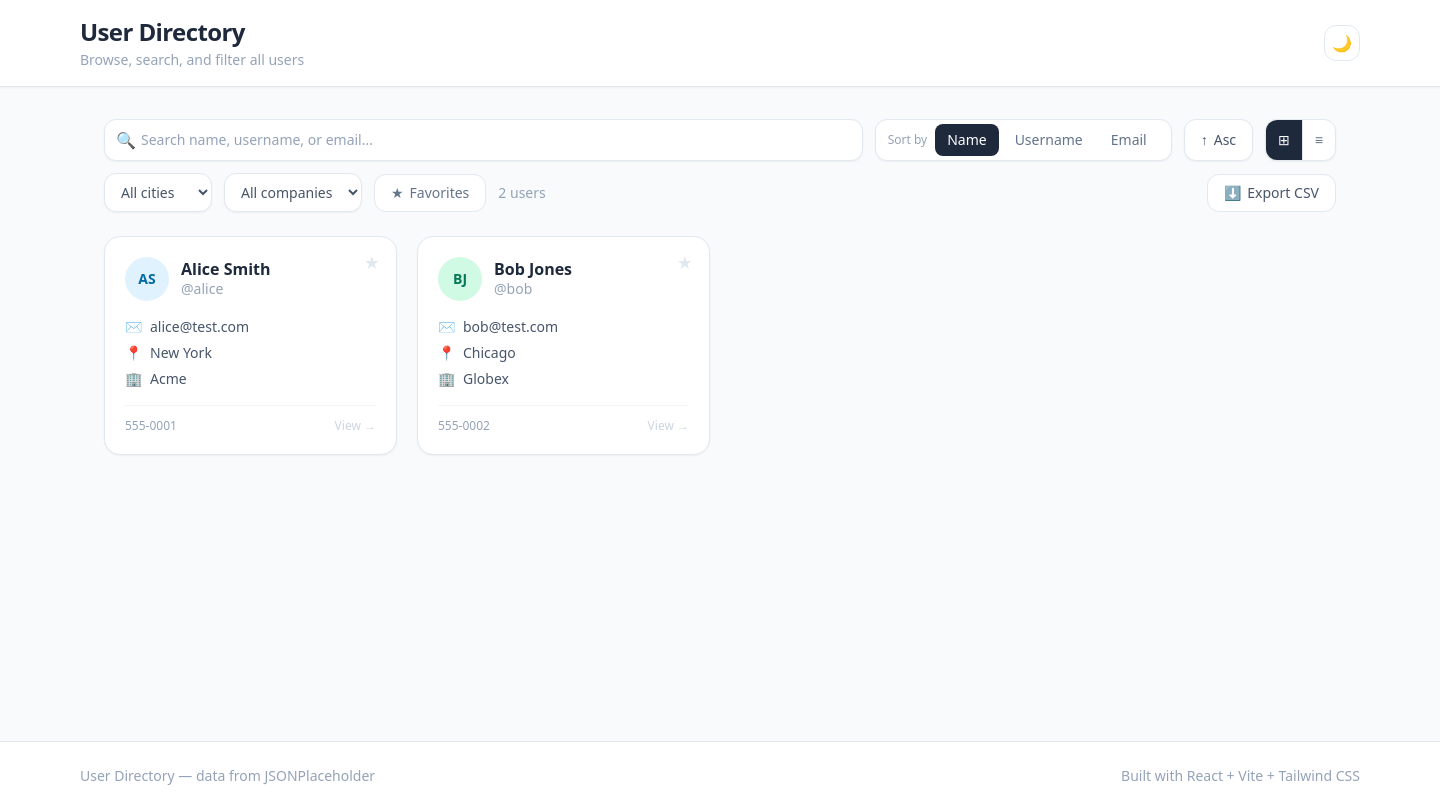
Home page › switches to table view when table button is clicked
Expected: the text "Alice Smith" is shown, [181,259,270,279]
Click the button named "Table view" at (1318, 140), box [1302,120,1335,160]
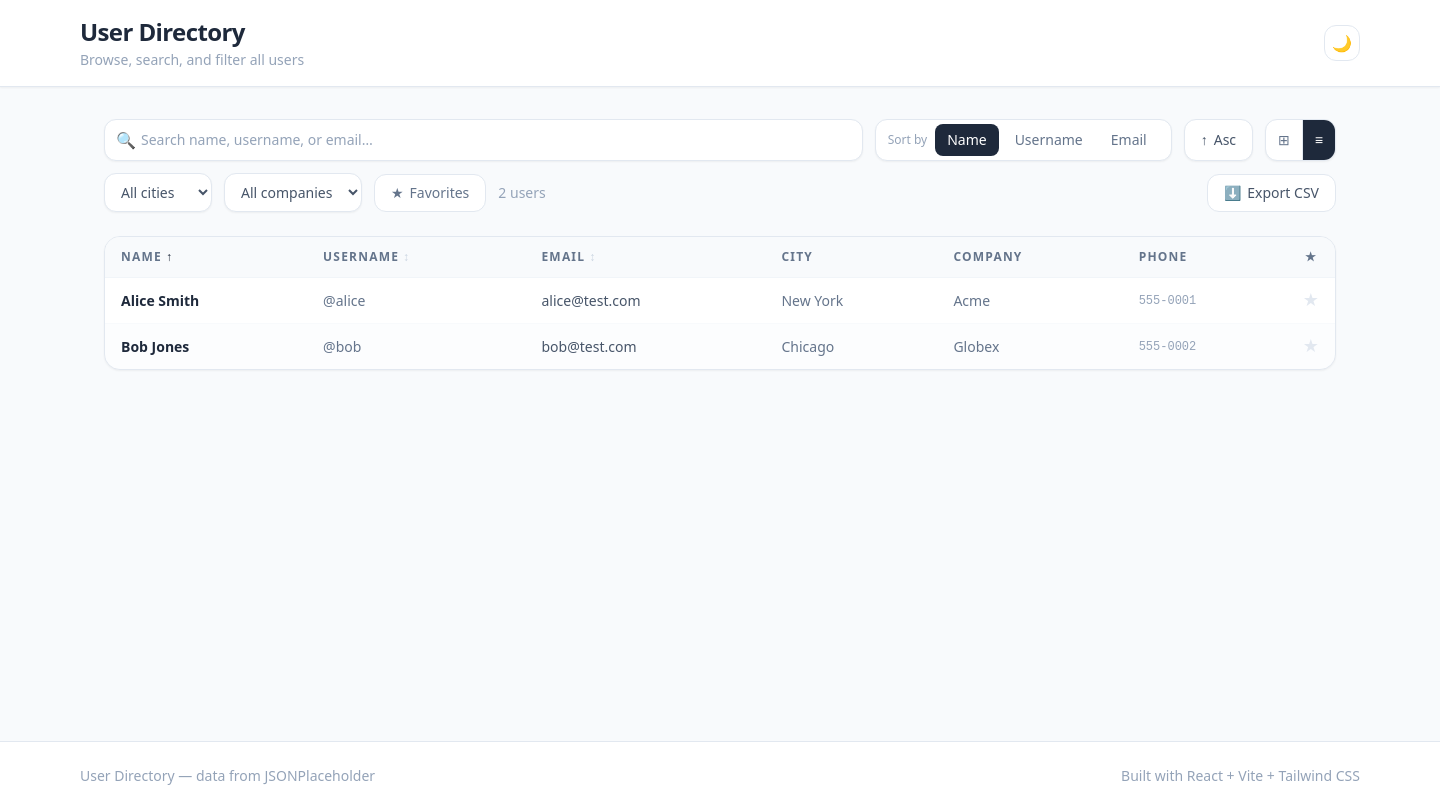
Expected: the table is shown, [105,237,1335,369]
